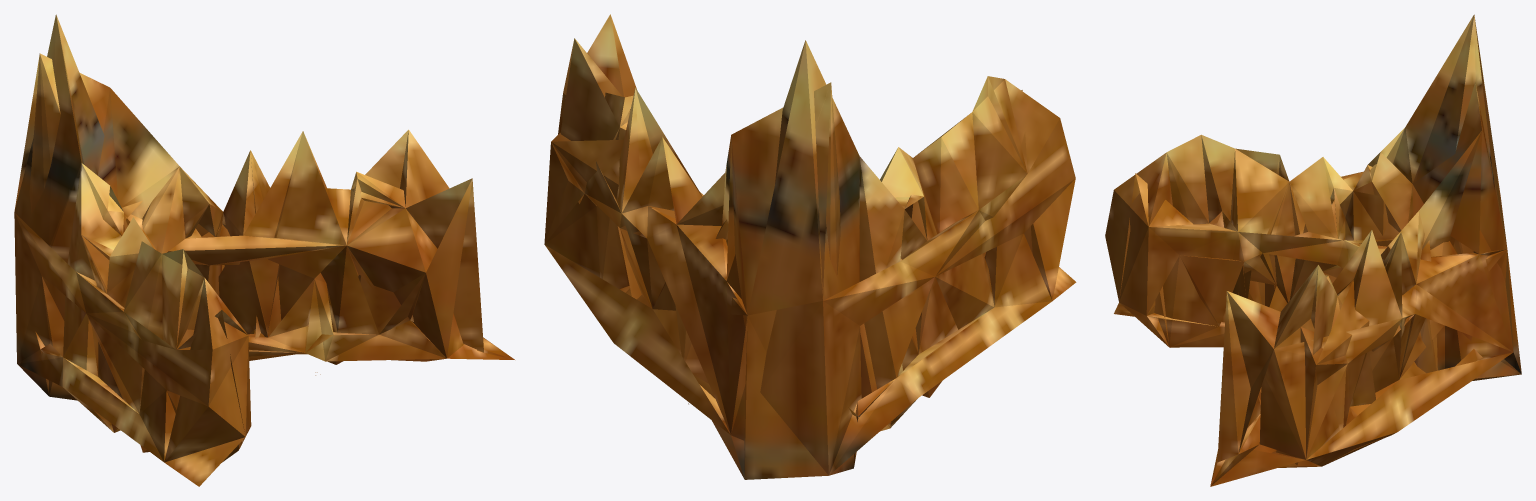
Rendered from palisade-corner.glb.
3 views of the same model, side by side, from view 1: azimuth 30°, elevation 25°; view 2: azimuth 150°, elevation 25°; view 3: azimuth 270°, elevation 25° (orthographic). The views are drawn at different scales.
Visible parts, largest first — view 1: palisade-corner; view 2: palisade-corner; view 3: palisade-corner.
Part boxes in pixels (x1,y1,x2,y2): palisade-corner: [14, 14, 514, 486]; palisade-corner: [544, 14, 1076, 479]; palisade-corner: [1105, 14, 1521, 486].
Bounding box in the file's own units: 4.07 × 3.99 × 4.03.
Materials: 1 (1 with a texture image).
